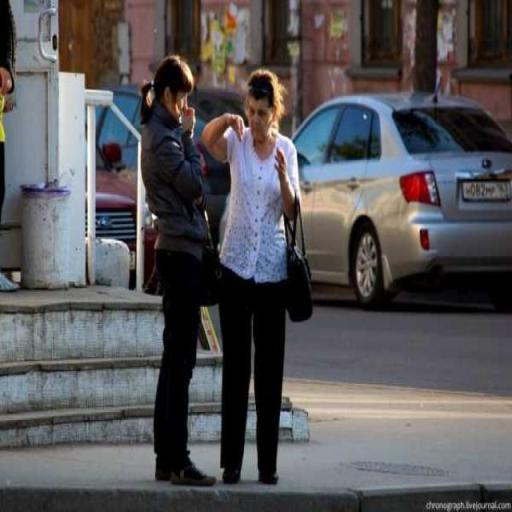person: (203, 74, 302, 483), (141, 58, 219, 487)
